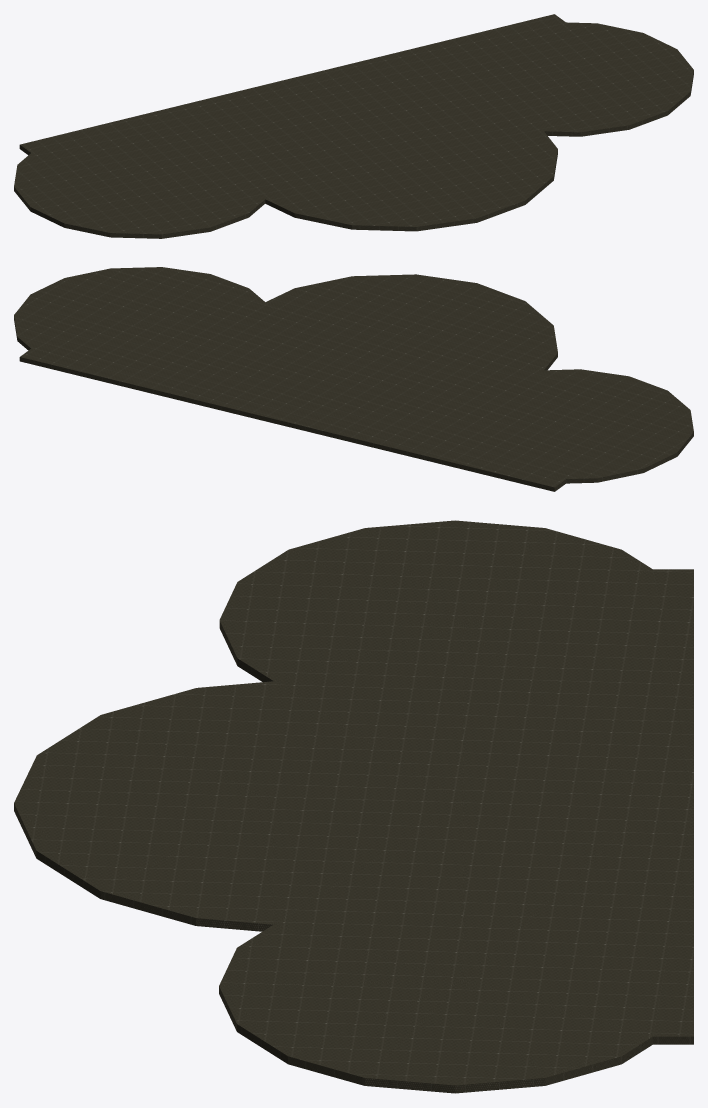
Rendered from Balcony_A.fbx.
3 renders of one model, top to bottom at view 1: azimuth 30°, elevation 25°; view 2: azimuth 150°, elevation 25°; view 3: azimuth 270°, elevation 25°, orthographic. The views are drawn at different scales.
Visible parts, largest first — view 1: Cylinder003; view 2: Cylinder003; view 3: Cylinder003.
Part boxes in pixels (<box>): Cylinder003: <box>14,14,693,238</box>; Cylinder003: <box>14,267,693,491</box>; Cylinder003: <box>14,520,693,1093</box>.
Bounding box in the file's own units: 1787 × 11.81 × 909.
